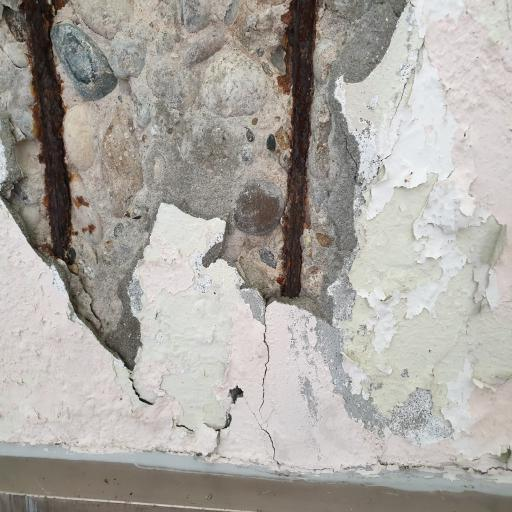exposed_rebar: (22, 0, 71, 260), (281, 0, 316, 297)
spalling: (0, 0, 407, 368)
